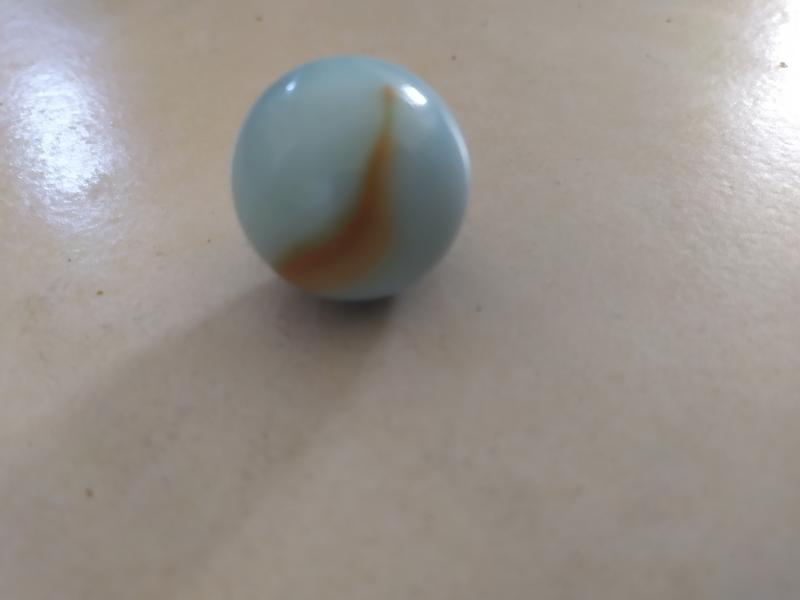Warning: (226, 51, 483, 307)
